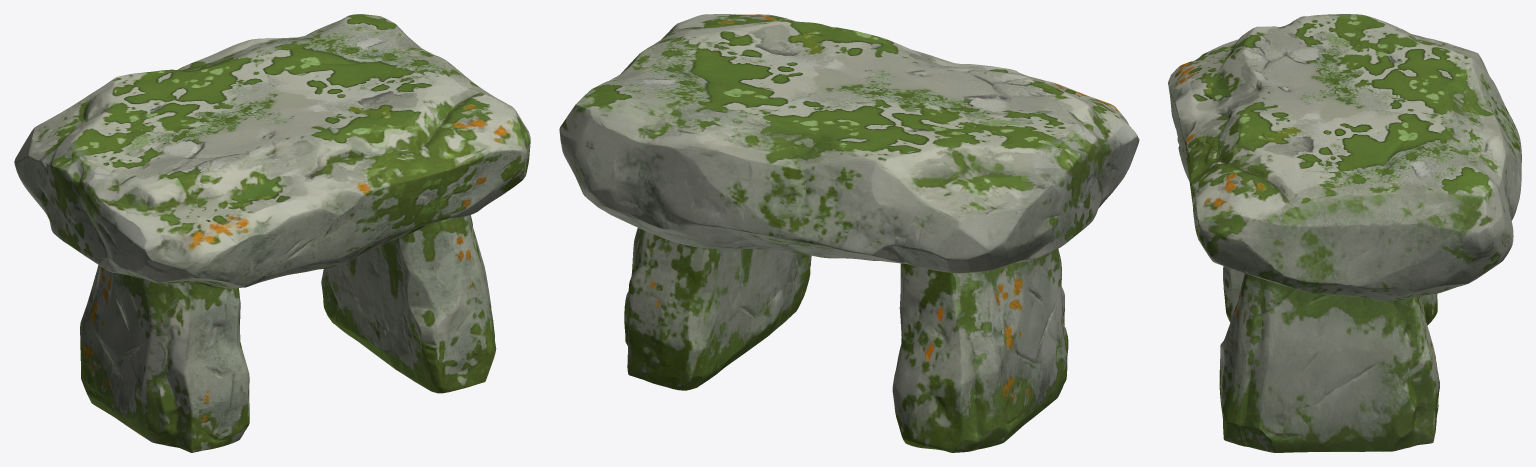
Rendered from dolmen.glb.
3 views of the same model, side by side, from view 1: azimuth 30°, elevation 25°; view 2: azimuth 150°, elevation 25°; view 3: azimuth 270°, elevation 25° (orthographic). The views are drawn at different scales.
Bounding box in the file's own units: 1.9 × 1.19 × 1.4.
Materials: 1 (1 with a texture image).
